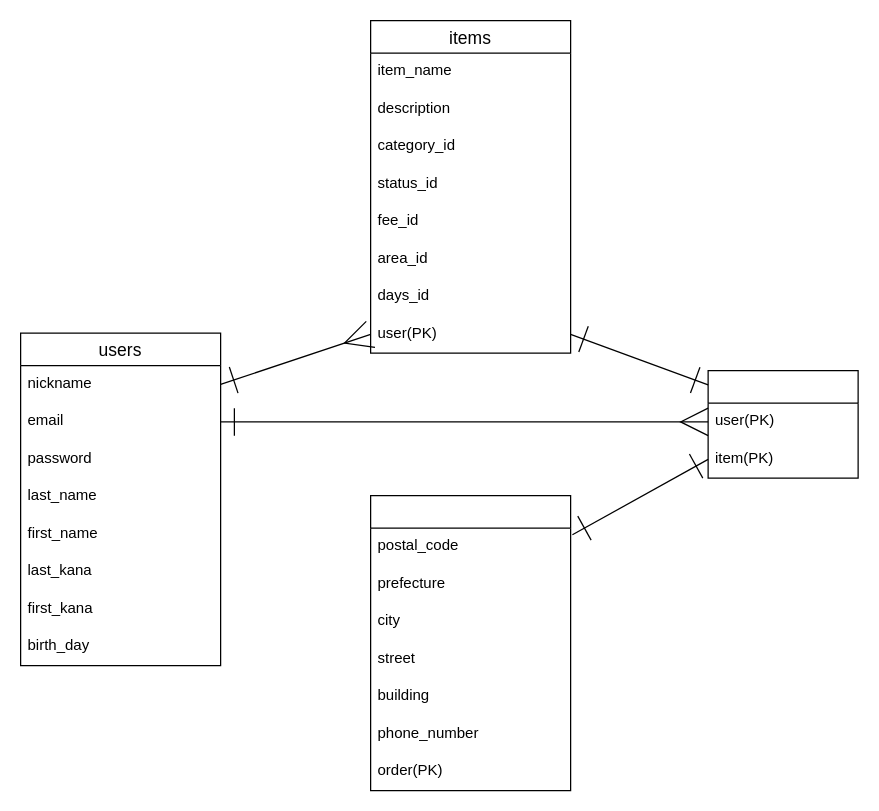
Image size: 879x811. Some labels were removed from this diagram. The shapes that lost their labels are listed below. From the top down, each one's box as (x1, y1, x2, y2) in pixels, then its label:
(707, 369, 858, 478): orders
(369, 494, 571, 791): addresses
